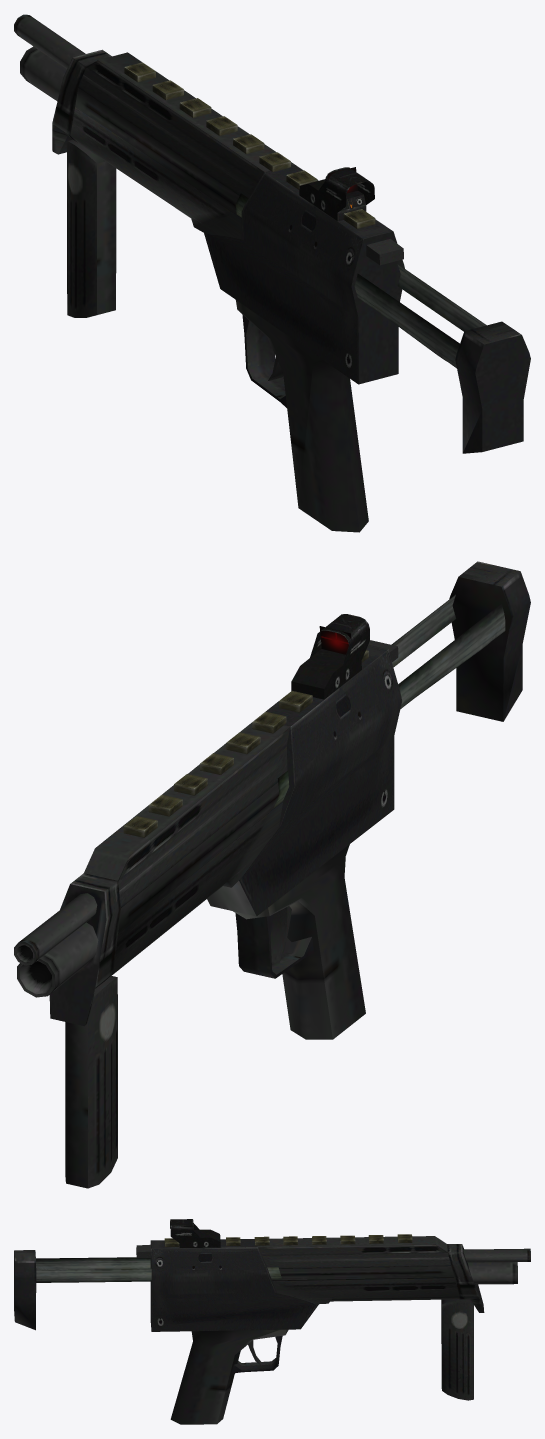
Rendered from w_SMG1.fbx.
3 renders of one model, top to bottom at view 1: azimuth 30°, elevation 25°; view 2: azimuth 150°, elevation 25°; view 3: azimuth 270°, elevation 25°, orthographic. The views are drawn at different scales.
Parts seen in each view (by area): view 1: w_smg1_smg1_reference; view 2: w_smg1_smg1_reference; view 3: w_smg1_smg1_reference.
Boxes of the visible parts, x1,y1,x2,y2 form: w_smg1_smg1_reference: [14, 14, 530, 532]; w_smg1_smg1_reference: [14, 561, 530, 1188]; w_smg1_smg1_reference: [14, 1219, 530, 1424].
Size of what is drawn, in the model's own units: 215 by 1008 by 2380.
